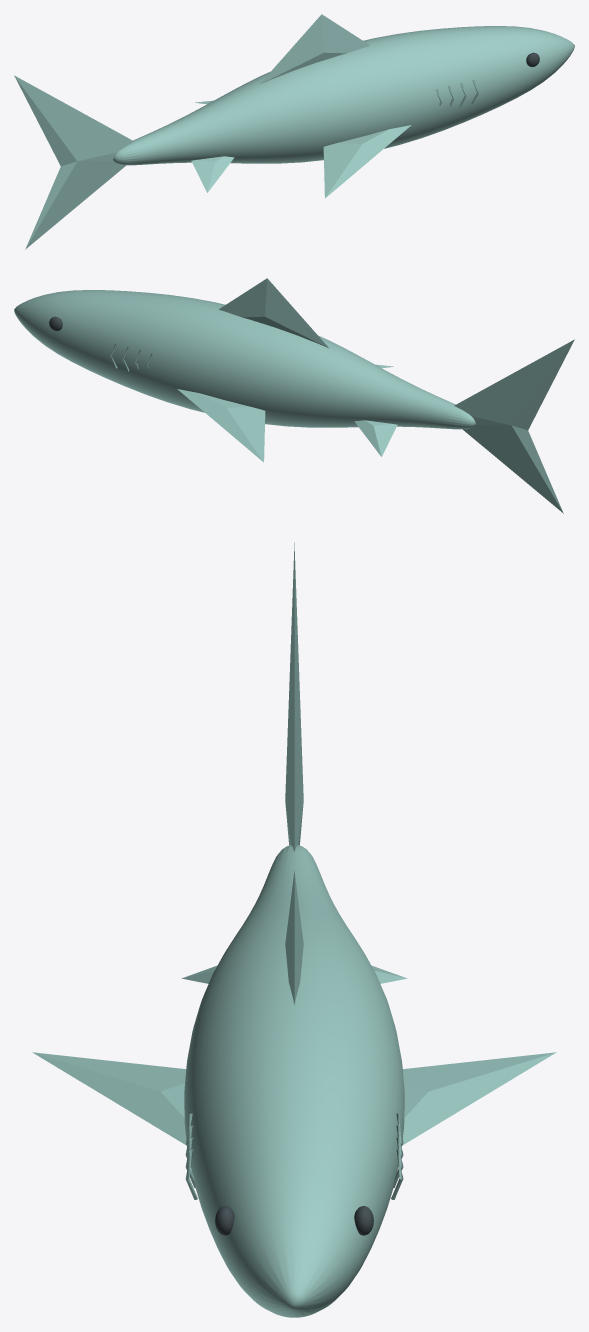
3 renders of one model, top to bottom at view 1: azimuth 30°, elevation 25°; view 2: azimuth 150°, elevation 25°; view 3: azimuth 270°, elevation 25°, orthographic. The views are drawn at different scales.
Parts seen in each view (by area): view 1: Body, Tail, Dorsal, Pectoral, Pelvic; view 2: Body, Tail, Dorsal, Pectoral.001, Pelvic.001; view 3: Body, Pectoral, Pectoral.001, Tail, Dorsal.
Boxes of the visible parts, left/top/right/bottom form: Body: left=113, top=26, right=574, bottom=165; Tail: left=14, top=75, right=134, bottom=249; Dorsal: left=259, top=14, right=369, bottom=84; Pectoral: left=323, top=125, right=411, bottom=198; Pelvic: left=191, top=156, right=234, bottom=192; Body: left=14, top=290, right=475, bottom=429; Tail: left=454, top=339, right=574, bottom=513; Dorsal: left=219, top=278, right=329, bottom=348; Pectoral.001: left=177, top=389, right=265, bottom=462; Pelvic.001: left=354, top=420, right=397, bottom=456; Body: left=184, top=845, right=404, bottom=1317; Pectoral: left=32, top=1052, right=186, bottom=1145; Pectoral.001: left=402, top=1052, right=556, bottom=1145; Tail: left=285, top=542, right=303, bottom=851; Dorsal: left=285, top=870, right=303, bottom=1004.
Bounding box in the file's own units: 252 × 76 × 102.
